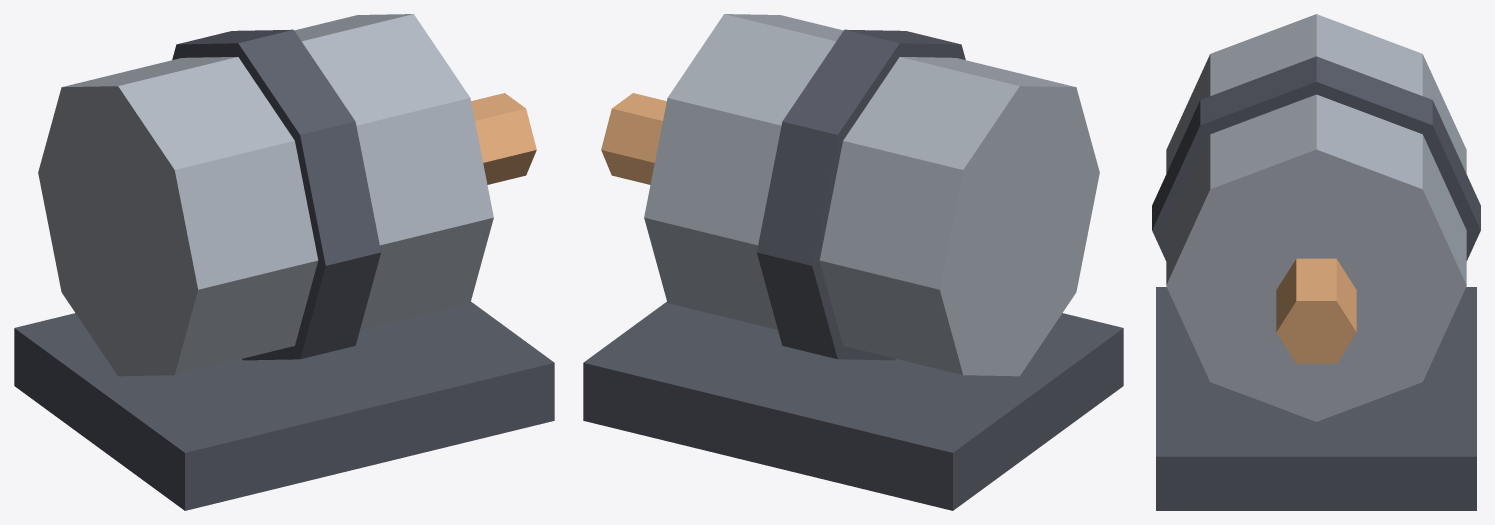
File: motor.glb
3 views of the same model, side by side, from view 1: azimuth 30°, elevation 25°; view 2: azimuth 150°, elevation 25°; view 3: azimuth 270°, elevation 25° (orthographic). The views are drawn at different scales.
Visible parts, largest first — view 1: motor; view 2: motor; view 3: motor.
Boxes of the visible parts, left/top/right/bottom form: motor: left=14, top=14, right=554, bottom=510; motor: left=583, top=14, right=1123, bottom=510; motor: left=1152, top=14, right=1480, bottom=510.
Size of the model in its own units: 0.225 by 0.192 by 0.164.
